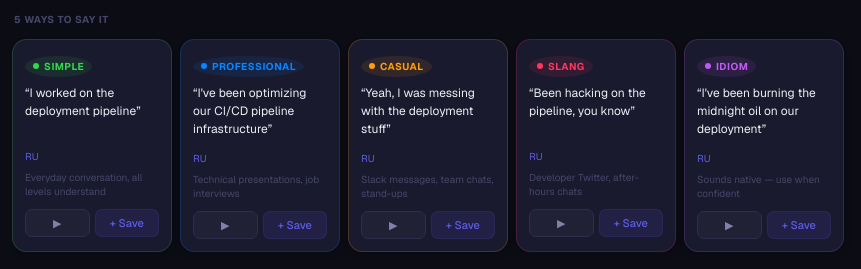
it: VariantCards › should change save button to saved after clicking
The width and height of the screenshot is (861, 269).
Step 1. Click the button "+ Save" below "I worked on the deployment pipeline" → (127, 223), box [94, 208, 159, 237]
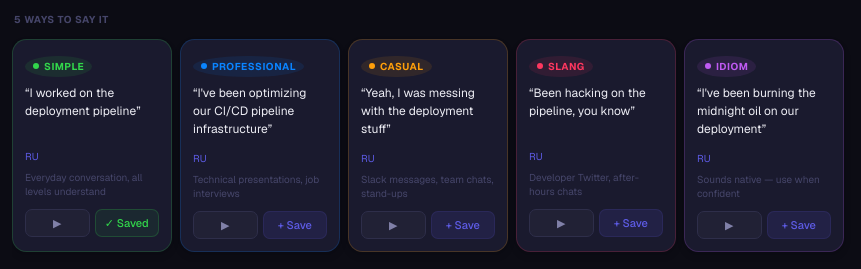
Expected: the button "✓ Saved" is shown, [94, 208, 159, 237]
